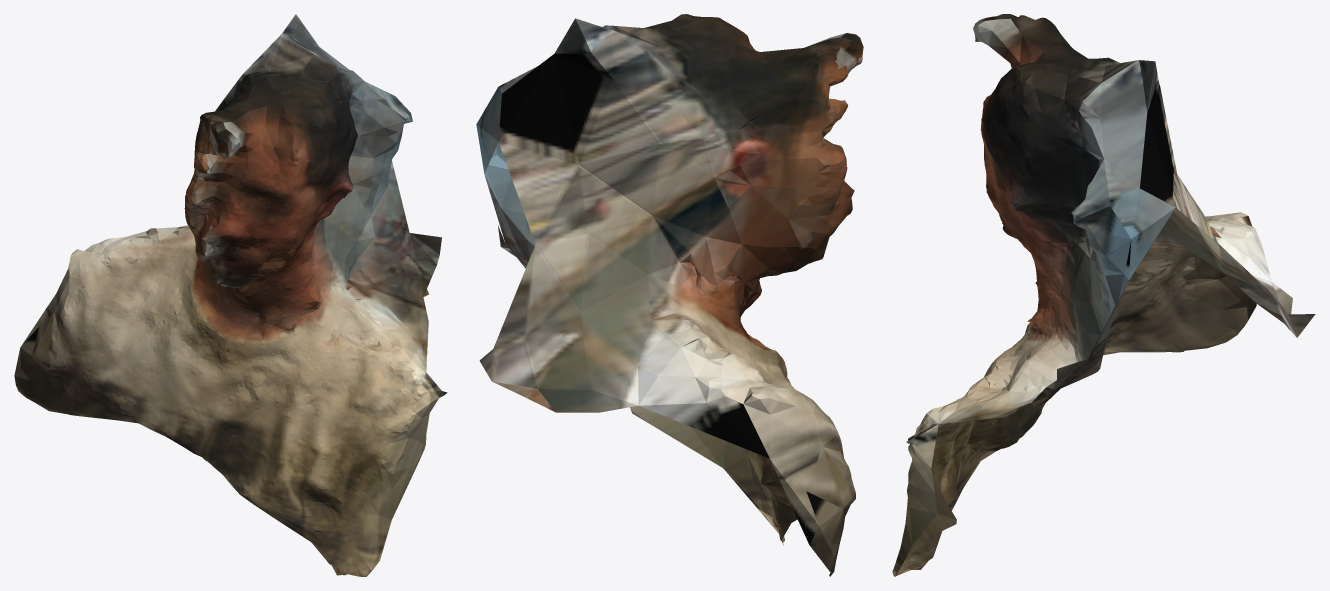
File: texturedMesh.obj
3 renders of one model, left to right at view 1: azimuth 30°, elevation 25°; view 2: azimuth 150°, elevation 25°; view 3: azimuth 270°, elevation 25°, orthographic. The views are drawn at different scales.
Size of the model in its own units: 0.6383 by 0.8343 by 0.5897.
Materials: 1 (1 with a texture image).
